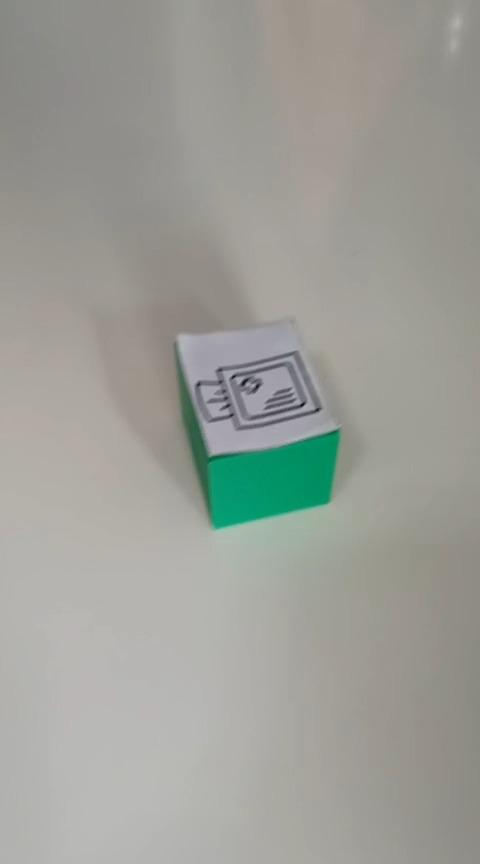Gauze: (172, 314, 342, 530)
